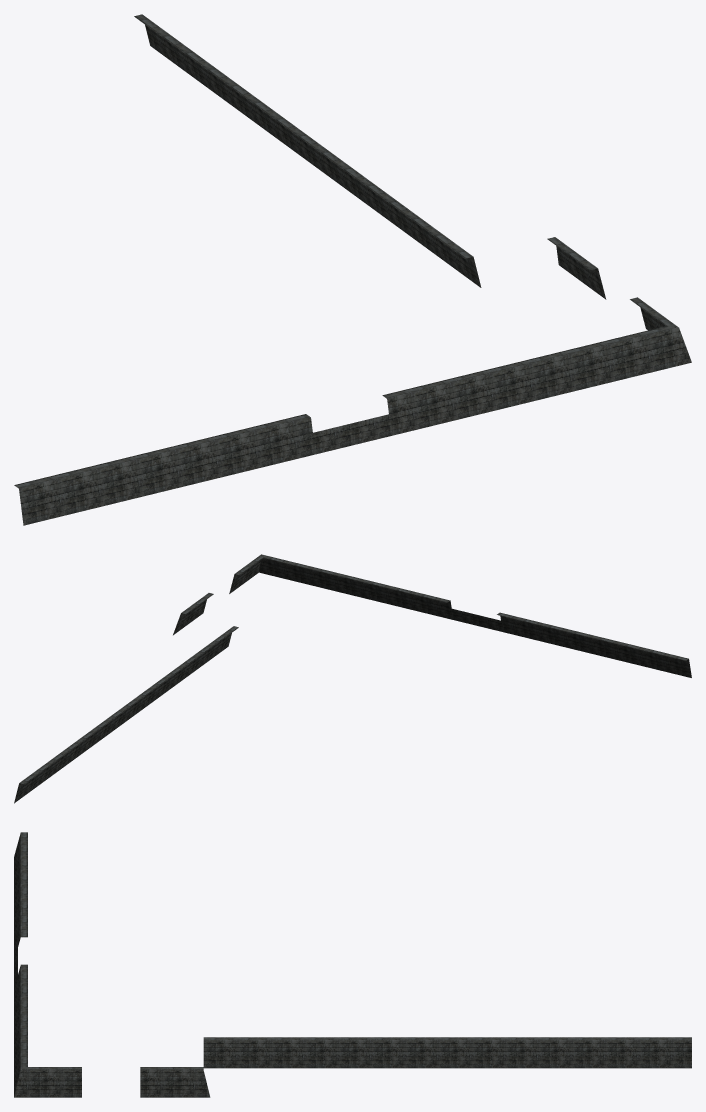
Rendered from church_foundation.DAE.
3 renders of one model, top to bottom at view 1: azimuth 30°, elevation 25°; view 2: azimuth 150°, elevation 25°; view 3: azimuth 270°, elevation 25°, orthographic. The views are drawn at different scales.
Visible parts, largest first — view 1: Object114; view 2: Object114; view 3: Object114.
Boxes of the visible parts, bbox=[...] form: Object114: bbox=[14, 14, 691, 525]; Object114: bbox=[14, 554, 691, 803]; Object114: bbox=[14, 832, 691, 1097].
Size of the model in its own units: 41.69 by 2 by 49.68.
